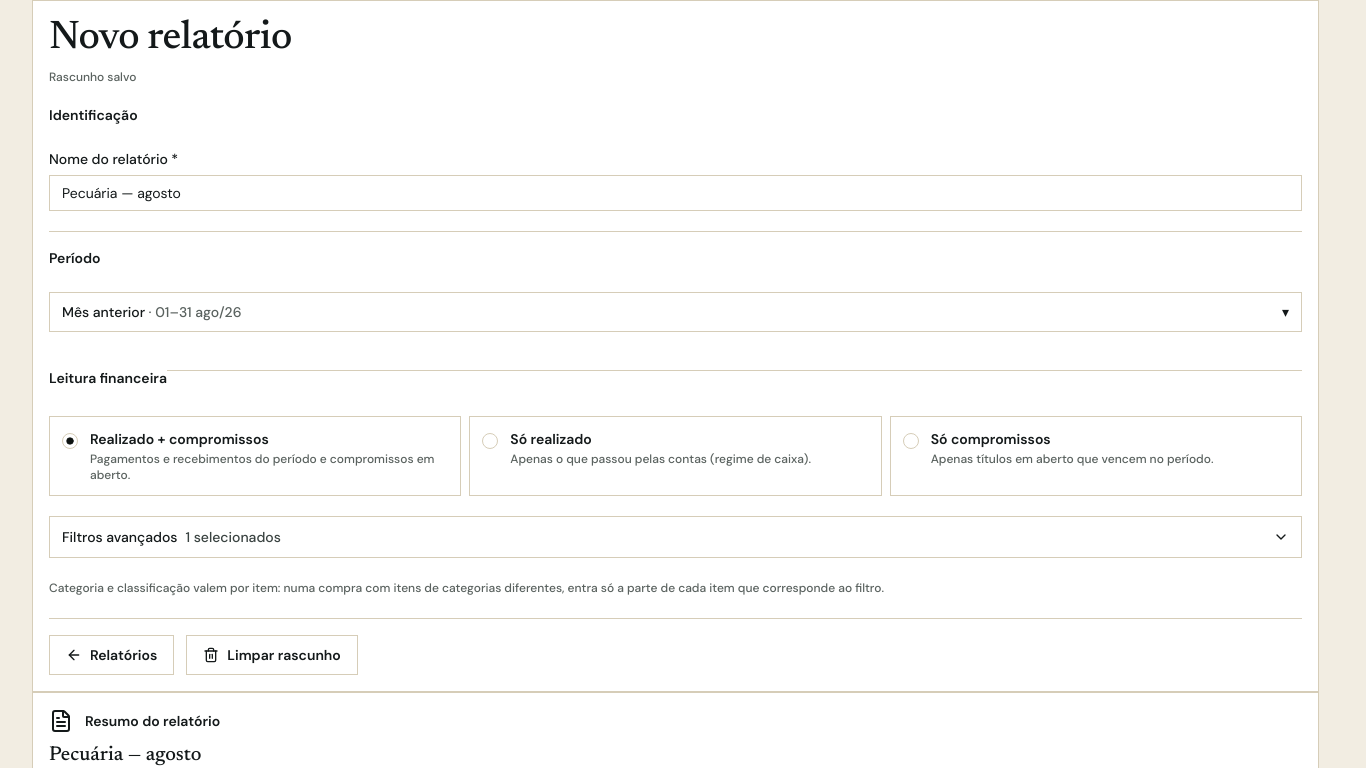
Test case: novo relatório financeiro › limpa o rascunho explicitamente
Click the button "Limpar rascunho".
click(272, 655)  # box x1=186 y1=635 x2=358 y2=675
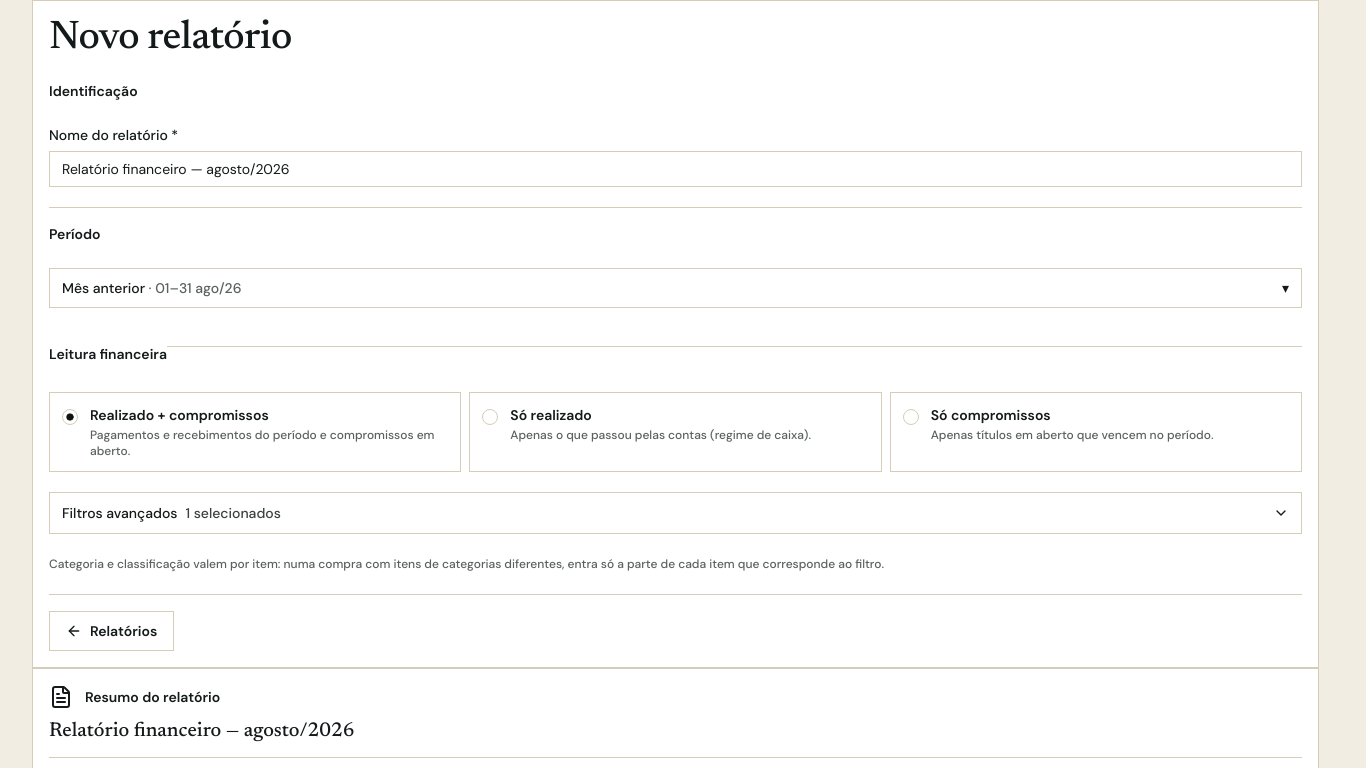
Now the button "Limpar rascunho" is gone
